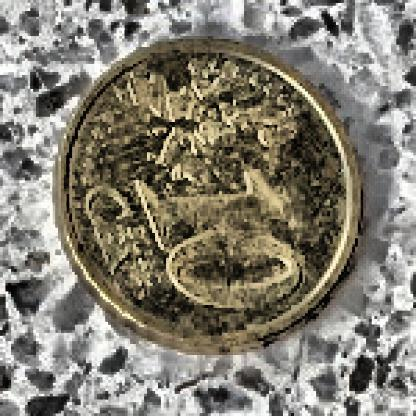coin: (61, 36, 358, 352)
